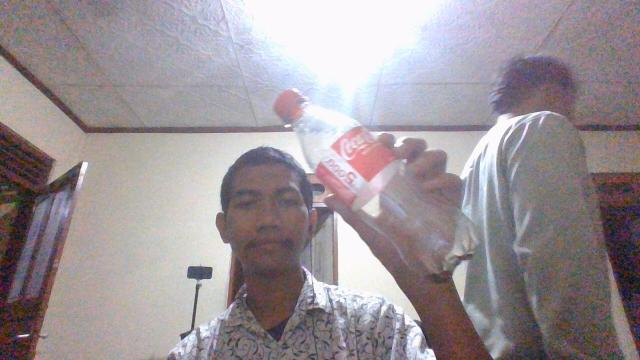coca-cola: (272, 86, 477, 282)
